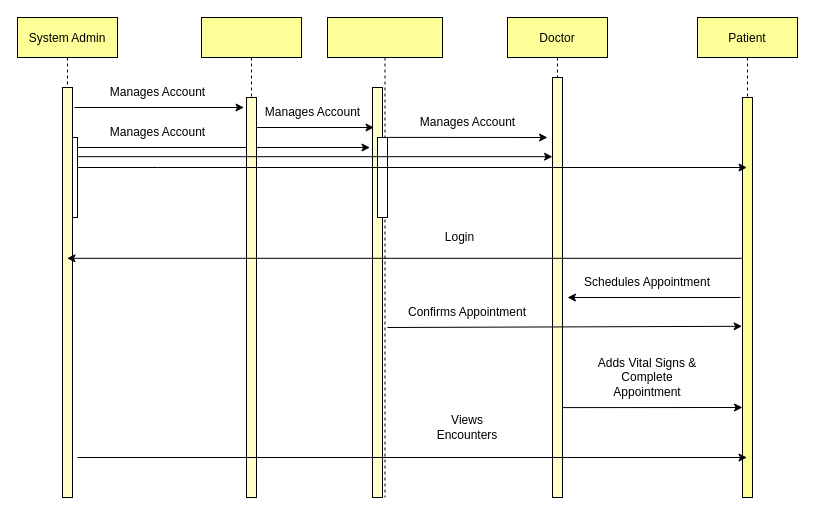
This 815x515 diagram has some shape labels left out. Here are the shapes that lost their labels. From the top down, the box of each, then its label:
(200, 16, 302, 498): Community Admin
(326, 16, 442, 498): Hospital Admin
